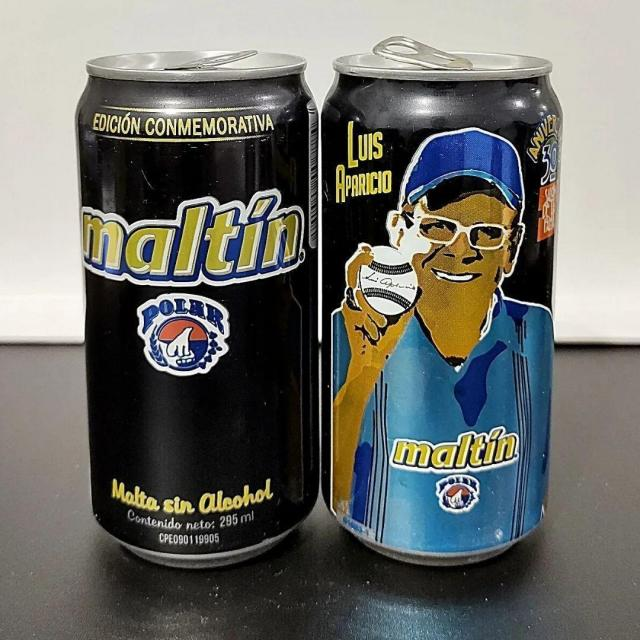tin can: (323, 42, 575, 583), (65, 42, 321, 574)
